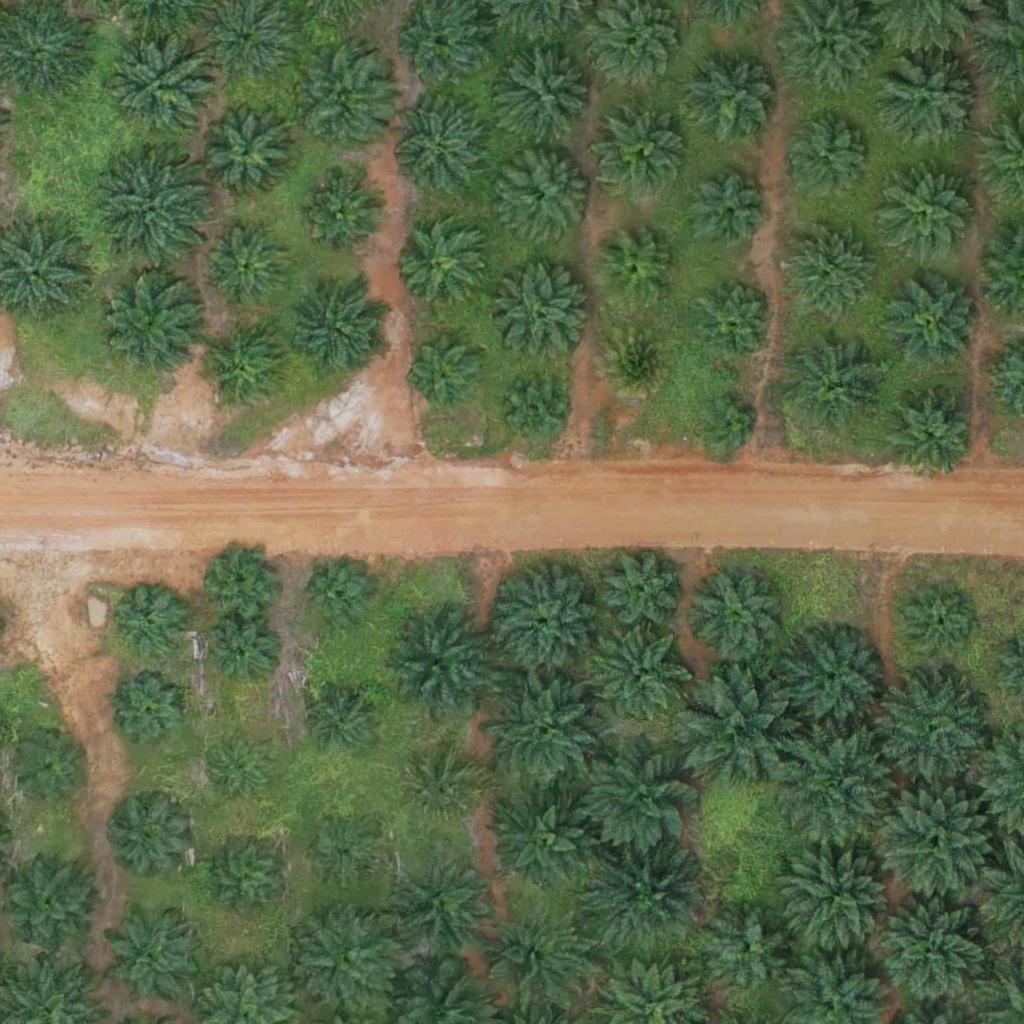Kelapa_Sawit: (375, 603, 500, 729), (482, 664, 607, 790), (577, 734, 702, 860), (674, 667, 799, 793), (777, 726, 902, 852), (871, 891, 996, 1017), (783, 844, 896, 958), (98, 153, 211, 266), (878, 782, 990, 896), (291, 900, 403, 1013), (491, 786, 603, 899), (478, 902, 590, 1015), (590, 839, 702, 952), (873, 667, 985, 780), (878, 49, 978, 150), (877, 165, 977, 266), (115, 44, 215, 145), (291, 280, 391, 381), (104, 266, 204, 367), (492, 567, 592, 668), (880, 382, 980, 482), (786, 332, 886, 432), (294, 60, 394, 160), (496, 146, 596, 246), (492, 264, 592, 364), (1, 857, 101, 957), (103, 906, 203, 1006), (591, 624, 691, 724), (781, 630, 881, 730), (201, 322, 289, 411), (599, 109, 687, 197), (201, 109, 289, 197), (502, 49, 590, 137), (303, 170, 391, 258), (204, 221, 292, 309), (108, 792, 196, 880), (203, 835, 291, 923), (705, 905, 793, 993), (890, 278, 977, 366), (784, 109, 871, 197), (786, 221, 873, 309), (689, 58, 776, 146), (396, 104, 483, 192), (402, 223, 489, 311), (400, 858, 487, 946), (597, 545, 684, 633), (691, 571, 778, 659), (599, 234, 674, 310), (689, 173, 764, 249), (902, 588, 977, 664), (696, 282, 771, 358), (600, 323, 675, 399), (498, 372, 573, 448), (17, 733, 92, 809), (406, 751, 481, 826), (408, 331, 483, 406), (114, 584, 189, 659), (114, 676, 189, 751), (198, 542, 273, 617), (202, 620, 277, 695), (300, 557, 375, 632), (303, 687, 378, 762), (309, 817, 384, 892), (698, 395, 760, 458), (208, 739, 270, 802)
